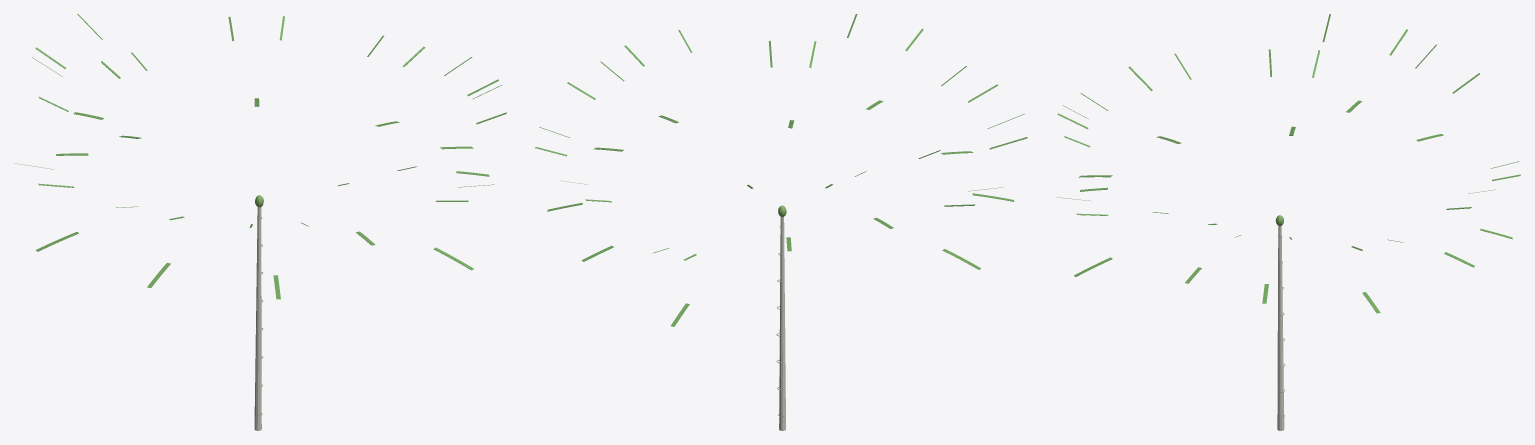
File: palma_cera.glb
3 renders of one model, left to right at view 1: azimuth 30°, elevation 25°; view 2: azimuth 150°, elevation 25°; view 3: azimuth 270°, elevation 25°, orthographic. The views are drawn at different scales.
Visible parts, largest first — view 1: PalmaCera; view 2: PalmaCera; view 3: PalmaCera.
Boxes of the visible parts, x1,y1,x2,y2 form: PalmaCera: [15, 14, 506, 430]; PalmaCera: [535, 14, 1027, 430]; PalmaCera: [1057, 14, 1520, 430].
Size of the model in its own units: 61.7 by 47.67 by 60.79.
